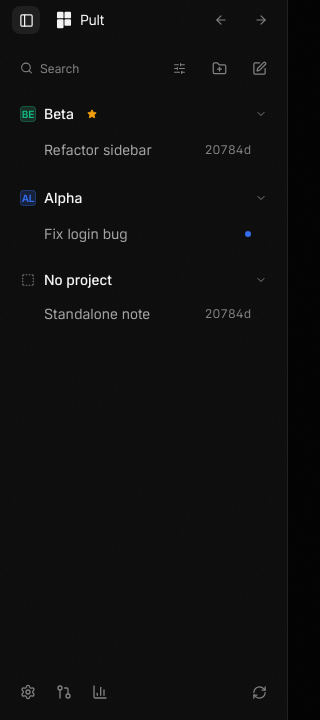
Test: Sidebar › search input filters threads across groups
Step 1. Type "login" into the search field → {"x": 104, "y": 68}, box [12, 52, 195, 84]
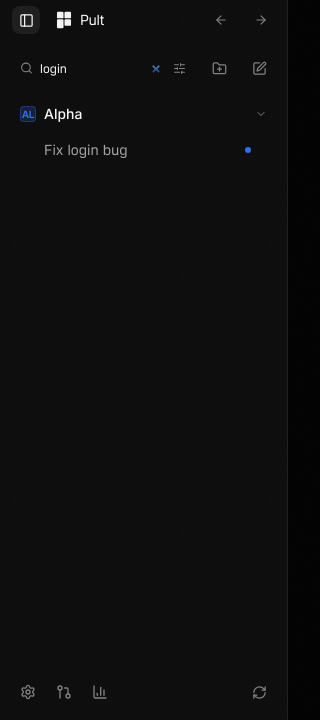
Check: the text "Fix login bug" is shown, box [44, 140, 128, 160]
Check: the link "Refactor sidebar" is gone
Check: the link "Standalone note" is gone
